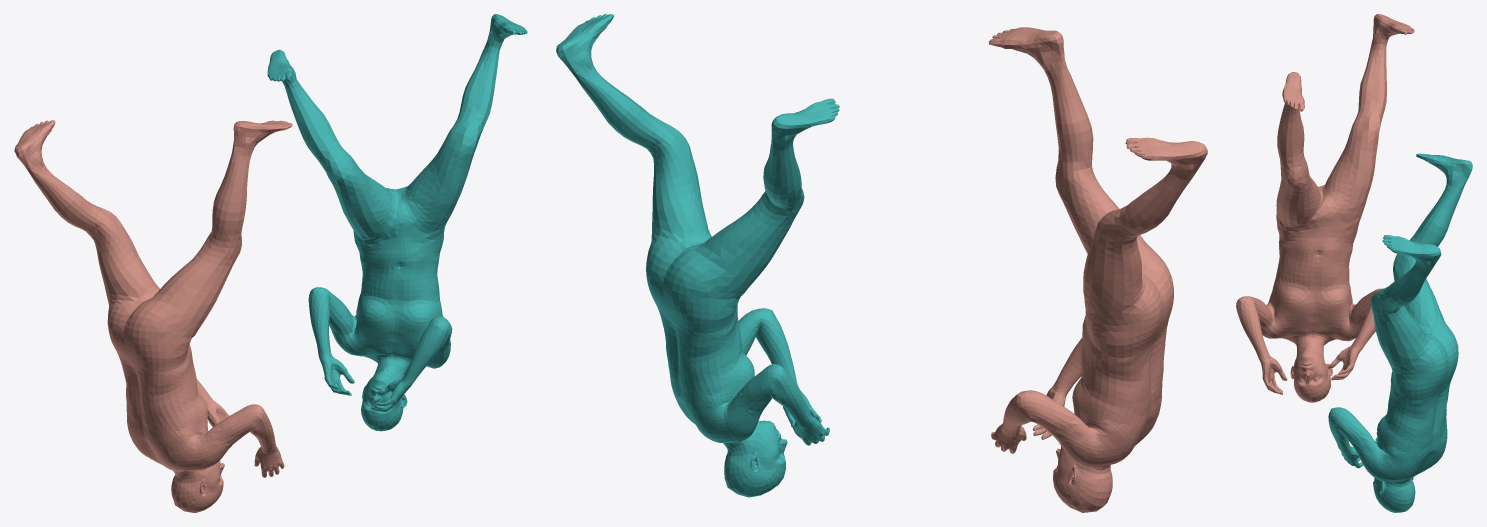
Rendered from all_people_native_world.glb.
3 views of the same model, side by side, from view 1: azimuth 30°, elevation 25°; view 2: azimuth 150°, elevation 25°; view 3: azimuth 270°, elevation 25° (orthographic). The views are drawn at different scales.
Visible parts, largest first — view 1: persistent_id_0_slot_1, persistent_id_1_slot_0; view 2: persistent_id_1_slot_0, persistent_id_0_slot_1; view 3: persistent_id_0_slot_1, persistent_id_1_slot_0.
Boxes of the visible parts, x1,y1,x2,y2 form: persistent_id_0_slot_1: (14, 120, 292, 512); persistent_id_1_slot_0: (267, 14, 527, 431); persistent_id_1_slot_0: (556, 14, 839, 497); persistent_id_0_slot_1: (988, 27, 1207, 512); persistent_id_0_slot_1: (1236, 14, 1414, 402); persistent_id_1_slot_0: (1328, 153, 1472, 512).
Size of the model in its own units: 2.3 by 1.68 by 1.03.
